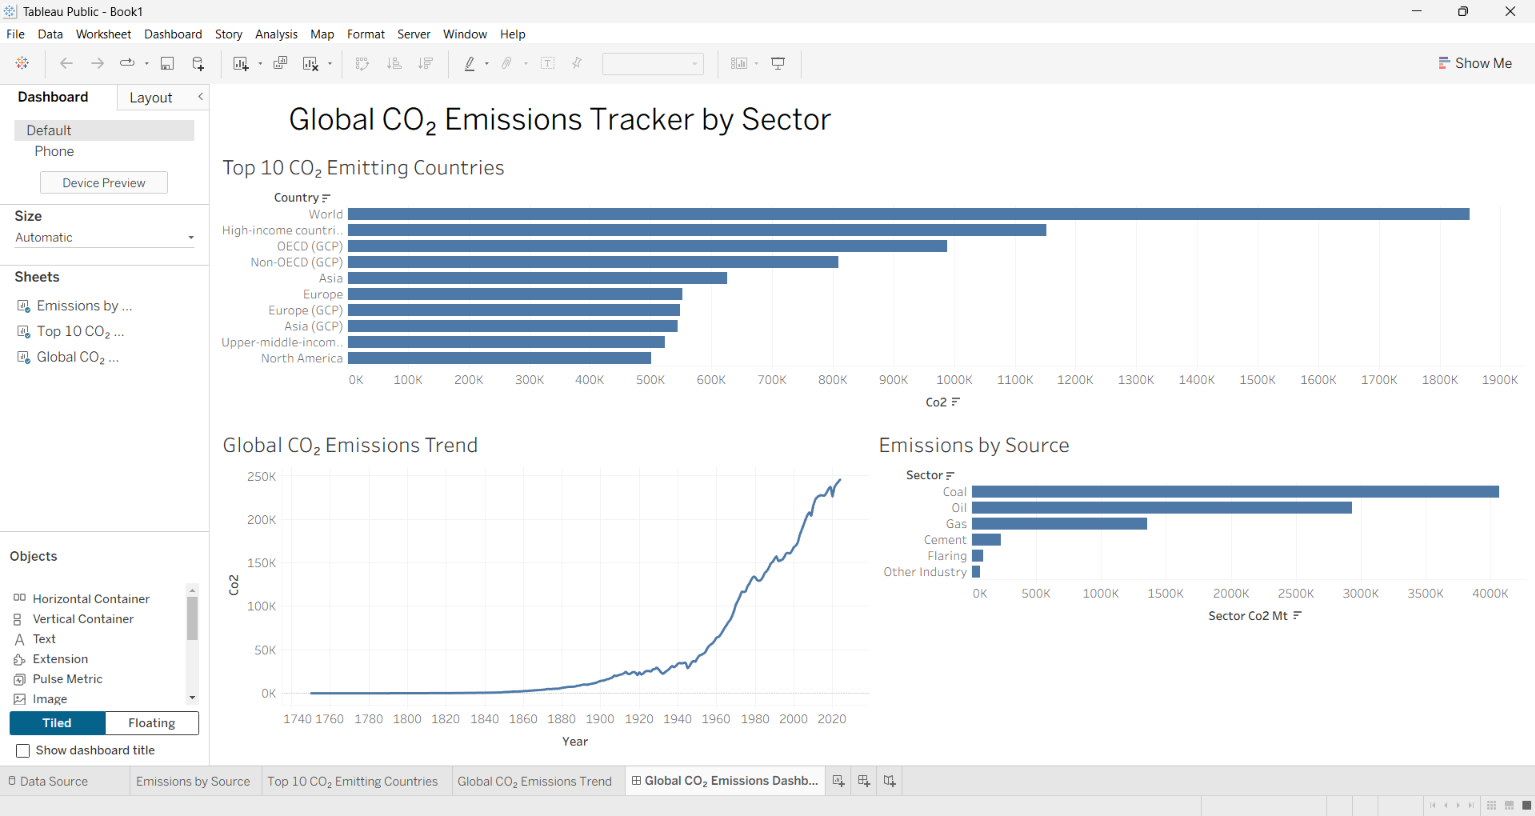

What the dashboard file says about the page in this screenshot:
{"tool":"tableau","page":{"name":"Global CO₂ Emissions Dashboard","canvas":[1000,1000],"units":"permille","ordinal":0},"visuals":[{"type":"text","box":[9,9.5,982,82]},{"type":"worksheet","title":"Top 10 CO₂ Emitting Countries","mark":"Automatic","rows":["country"],"cols":["co2"],"box":[9,91.6,982,407.9]},{"type":"worksheet","title":"Global CO₂ Emissions Trend","mark":"Automatic","rows":["co2"],"cols":["year"],"box":[9,499.4,491,491.1]},{"type":"worksheet","title":"Emissions by Source","mark":"Automatic","rows":["sector"],"cols":["sector_co2_mt"],"box":[500,499.4,491,491.1]}]}

Visuals, with their boxes on the dashboard's canvas, which has no fixed pixel size, in thousandths of its width and height (x1, y1, x2, y2). These are canvas units, not pixel positions in the 1535x816 screenshot, which may show the page scaled, cropped or inside an application window:
text: Rect(9, 10, 991, 92)
"Top 10 CO₂ Emitting Countries" worksheet: Rect(9, 92, 991, 500)
"Global CO₂ Emissions Trend" worksheet: Rect(9, 499, 500, 990)
"Emissions by Source" worksheet: Rect(500, 499, 991, 990)
